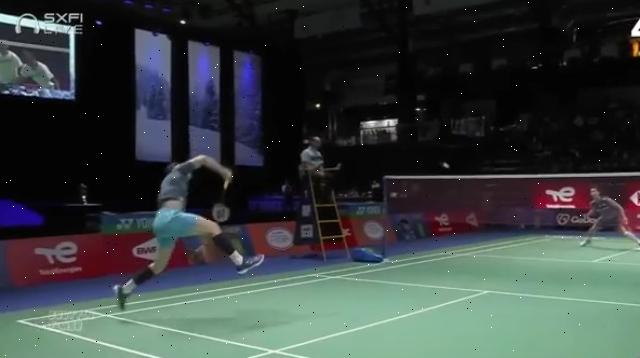Shuttlecock: (441, 162, 452, 172)
